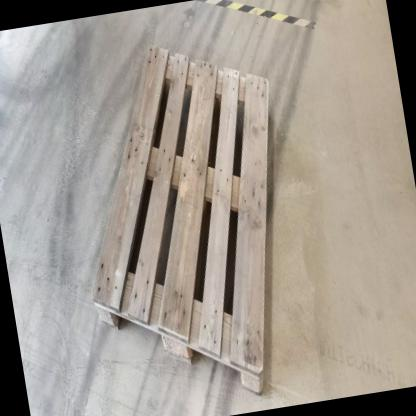BoxFace: (84, 33, 273, 403)
